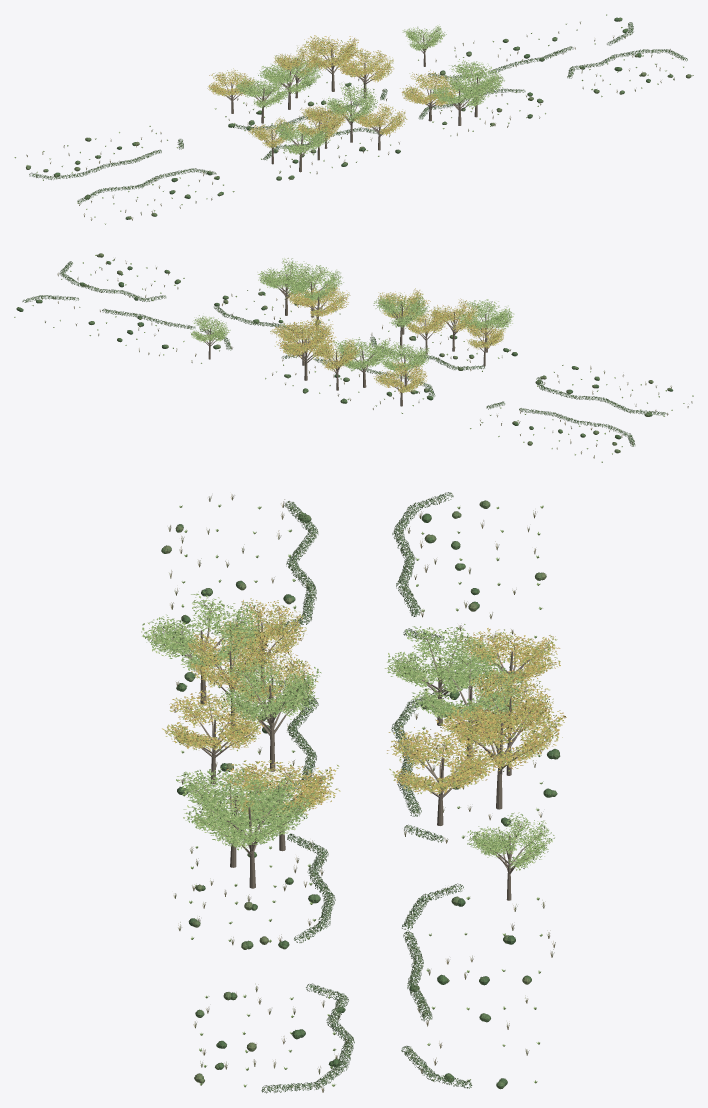
File: 20261103-campus-planting-center-rear.glb
The picture shows the model from 3 angles, top to bottom: view 1: azimuth 30°, elevation 25°; view 2: azimuth 150°, elevation 25°; view 3: azimuth 270°, elevation 25°; orthographic projection. The views are drawn at different scales.
Visible parts, largest first — view 1: Garden - hedge foliage leaves, Garden - clipped shrubs, Garden - autumn grass clumps, Tree foliage 82 shade 3, Tree foliage 82 shade 0, Tree foliage 82 shade 2, Tree foliage 58 shade 0, Tree foliage 65 shade 1, Tree foliage 58 shade 3, Tree foliage 58 shade 2, Tree foliage 82 shade 1, Tree foliage 65 shade 0 (+32 smaller); view 2: Garden - hedge foliage leaves, Garden - clipped shrubs, Garden - autumn grass clumps, Tree foliage 82 shade 2, Tree foliage 82 shade 3, Tree foliage 82 shade 1, Tree foliage 82 shade 0, Tree foliage 65 shade 2, Tree foliage 65 shade 1, Tree foliage 65 shade 0, Tree foliage 75 shade 0, Tree foliage 68 shade 3 (+28 smaller); view 3: Garden - hedge foliage leaves, Garden - clipped shrubs, Garden - autumn grass clumps, Tree foliage 82 shade 2, Tree foliage 82 shade 0, Tree foliage 82 shade 3, Tree foliage 65 shade 2, Tree foliage 82 shade 1, Tree foliage 58 shade 3, Tree foliage 65 shade 1, Tree foliage 58 shade 2, Tree foliage 58 shade 0 (+42 smaller).
Boxes of the visible parts, x1,y1,x2,y2 form: Garden - hedge foliage leaves: (26, 17, 691, 219); Garden - clipped shrubs: (26, 17, 691, 219); Garden - autumn grass clumps: (26, 21, 674, 220); Tree foliage 82 shade 3: (304, 35, 361, 69); Tree foliage 82 shade 0: (302, 35, 359, 70); Tree foliage 82 shade 2: (305, 36, 362, 68); Tree foliage 58 shade 0: (338, 49, 393, 82); Tree foliage 65 shade 1: (449, 60, 502, 93); Tree foliage 58 shade 3: (334, 48, 392, 82); Tree foliage 58 shade 2: (338, 49, 393, 81); Tree foliage 82 shade 1: (303, 35, 359, 70); Tree foliage 65 shade 0: (449, 59, 502, 95); Garden - hedge foliage leaves: (17, 253, 673, 452); Garden - clipped shrubs: (16, 253, 672, 453); Garden - autumn grass clumps: (45, 258, 692, 458); Tree foliage 82 shade 2: (276, 321, 334, 359); Tree foliage 82 shade 3: (276, 320, 336, 358); Tree foliage 82 shade 1: (275, 322, 335, 360); Tree foliage 82 shade 0: (278, 320, 334, 358); Tree foliage 65 shade 2: (259, 258, 315, 295); Tree foliage 65 shade 1: (258, 260, 317, 294); Tree foliage 65 shade 0: (258, 258, 315, 294); Tree foliage 75 shade 0: (286, 283, 349, 316); Tree foliage 68 shade 3: (336, 339, 396, 369); Garden - hedge foliage leaves: (161, 492, 560, 1093); Garden - clipped shrubs: (161, 500, 559, 1089); Garden - autumn grass clumps: (168, 494, 556, 1092); Tree foliage 82 shade 2: (440, 692, 565, 768); Tree foliage 82 shade 0: (435, 694, 566, 769); Tree foliage 82 shade 3: (437, 693, 562, 771); Tree foliage 65 shade 2: (188, 775, 312, 850); Tree foliage 82 shade 1: (439, 697, 563, 771); Tree foliage 58 shade 3: (388, 727, 495, 793); Tree foliage 65 shade 1: (197, 778, 315, 848); Tree foliage 58 shade 2: (387, 726, 495, 794); Tree foliage 58 shade 0: (387, 728, 494, 794).
Bounding box in the file's own units: 144 × 11.67 × 43.25.
